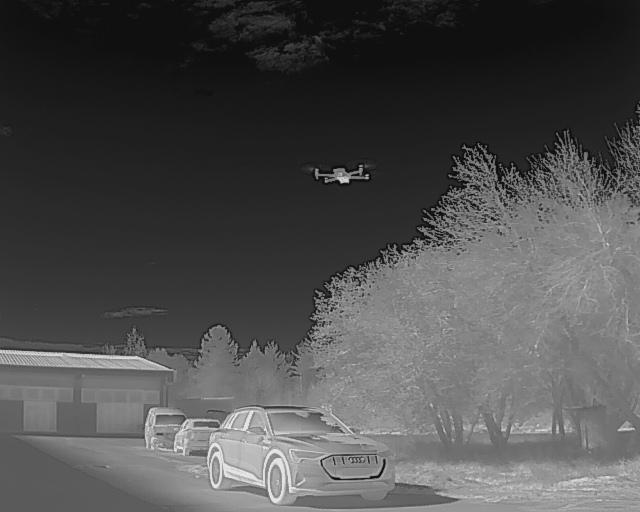drone: (302, 159, 376, 194)
